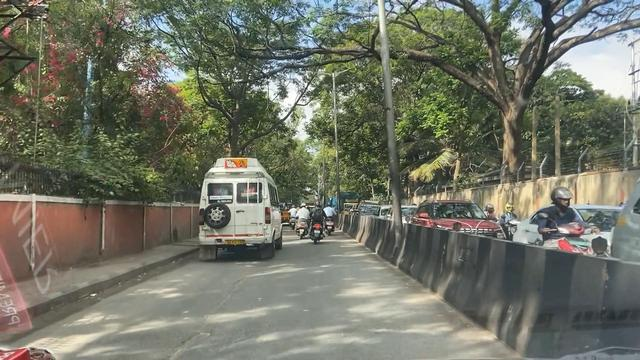HMV: (200, 153, 272, 255)
LMV: (306, 199, 327, 243)
